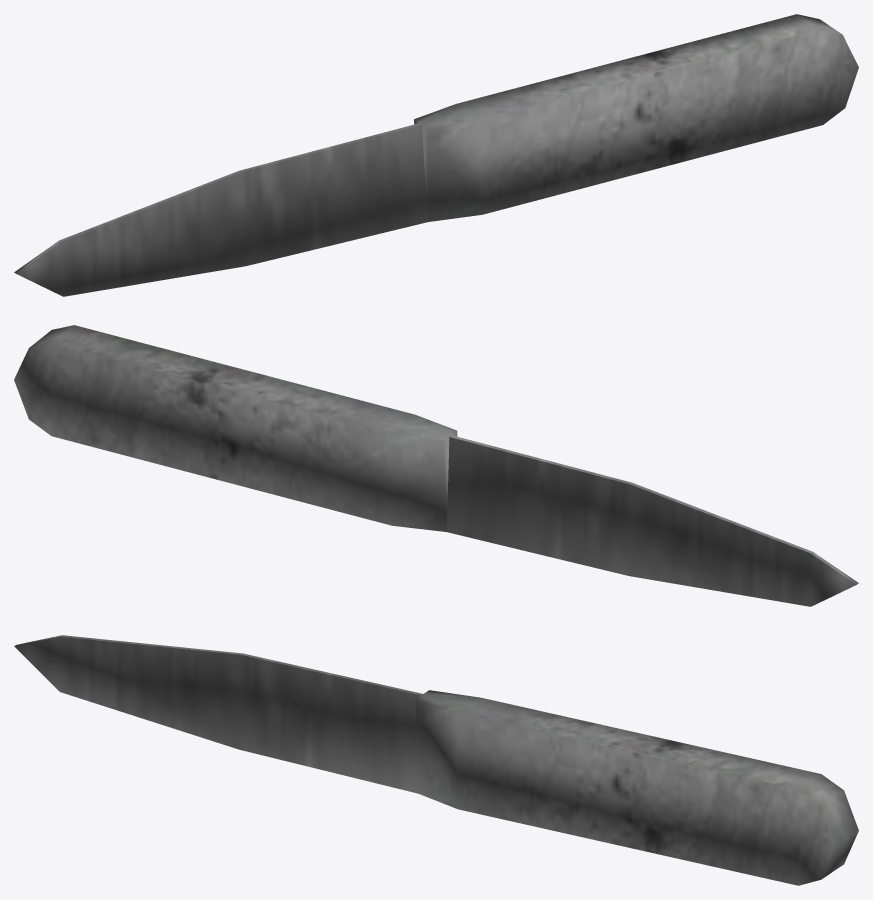
Rendered from p_int_surgical_knife.glb.
3 views of the same model, one above another, from view 1: azimuth 30°, elevation 25°; view 2: azimuth 150°, elevation 25°; view 3: azimuth 330°, elevation 25° (orthographic).
Parts seen in each view (by area): view 1: p_int_surgical_knife; view 2: p_int_surgical_knife; view 3: p_int_surgical_knife.
Part boxes in pixels (<box>): p_int_surgical_knife: <box>14,14,858,296</box>; p_int_surgical_knife: <box>14,325,858,606</box>; p_int_surgical_knife: <box>14,635,858,885</box>.
Size of the model in its own units: 0.1995 by 0.0238 by 0.0103.
1 material, 1 textured.
